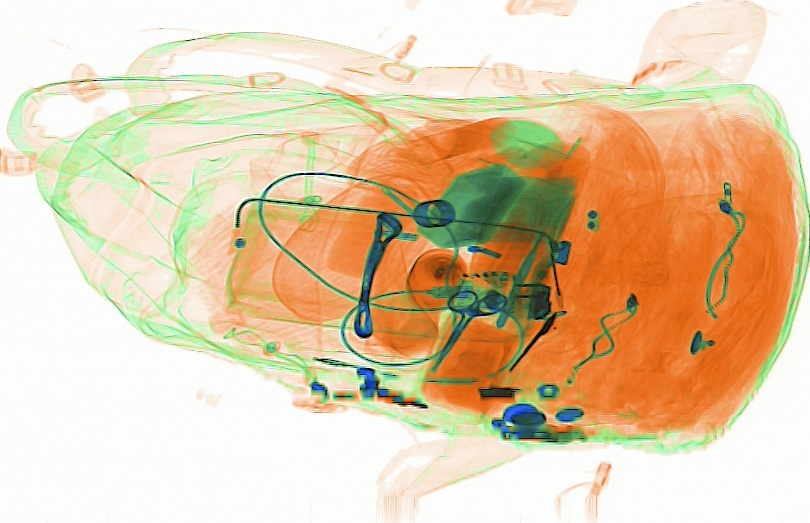scissors: (426, 287, 509, 373)
